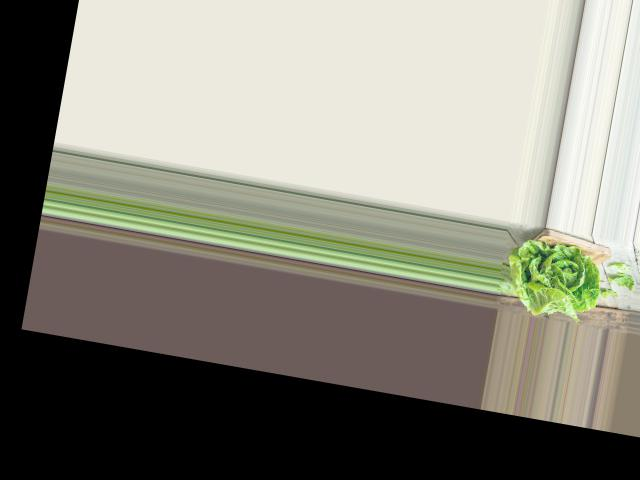lettuce: (498, 231, 603, 322)
